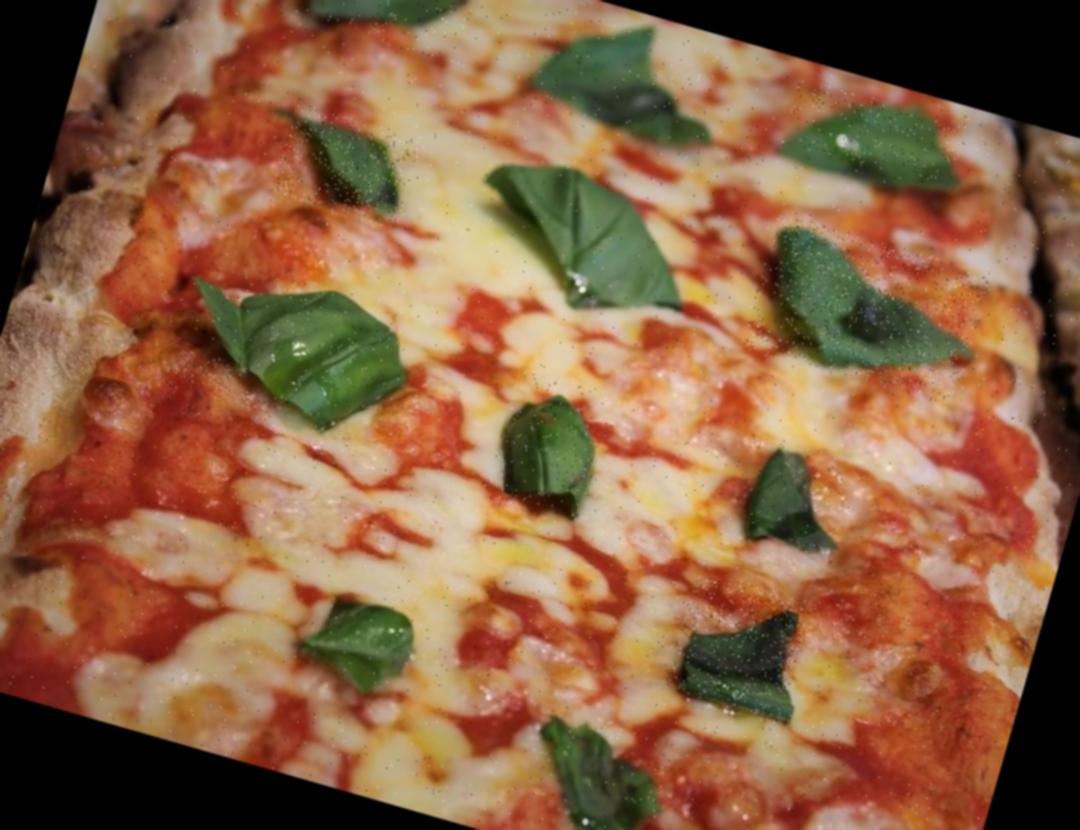Basil: (741, 212, 993, 407), (168, 252, 422, 440), (467, 161, 701, 345), (517, 4, 725, 163), (664, 574, 812, 722), (782, 77, 970, 193), (513, 703, 678, 830), (272, 102, 424, 228), (486, 367, 616, 514), (731, 434, 849, 554), (278, 0, 481, 65), (310, 587, 426, 690)
Pizza: (0, 0, 1080, 830)
